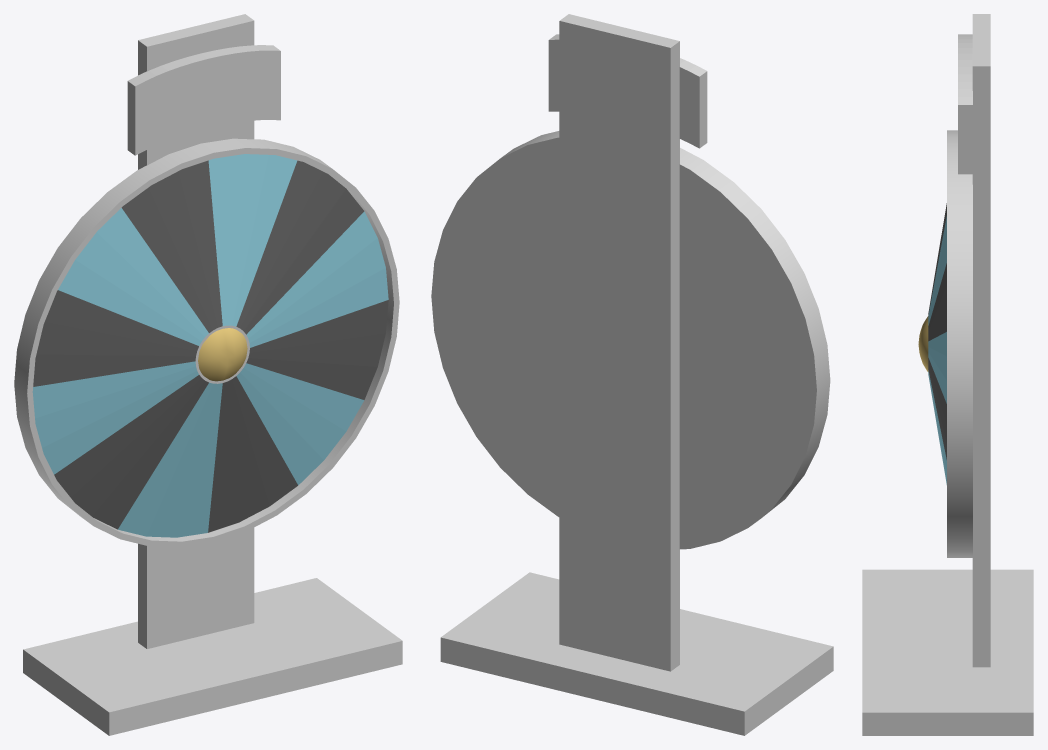
File: game.fbx
3 renders of one model, left to right at view 1: azimuth 30°, elevation 25°; view 2: azimuth 150°, elevation 25°; view 3: azimuth 270°, elevation 25°, orthographic. The views are drawn at different scales.
Visible parts, largest first — view 1: Cylinder.003, Cylinder, Cylinder.002, Cylinder.001; view 2: Cylinder, Cylinder.003, Cylinder.002; view 3: Cylinder, Cylinder.003, Cylinder.002, Cylinder.001.
Boxes of the visible parts, x1,y1,x2,y2 form: Cylinder.003: (14,138,399,547); Cylinder: (23,14,402,735); Cylinder.002: (127,45,280,155); Cylinder.001: (198,328,247,381); Cylinder: (440,14,833,735); Cylinder.003: (431,131,830,549); Cylinder.002: (548,34,707,148); Cylinder: (862,14,1033,735); Cylinder.003: (928,130,972,557); Cylinder.002: (958,34,972,174); Cylinder.001: (918,316,928,371).
Size of the model in its own units: 200 by 321 by 79.99.
